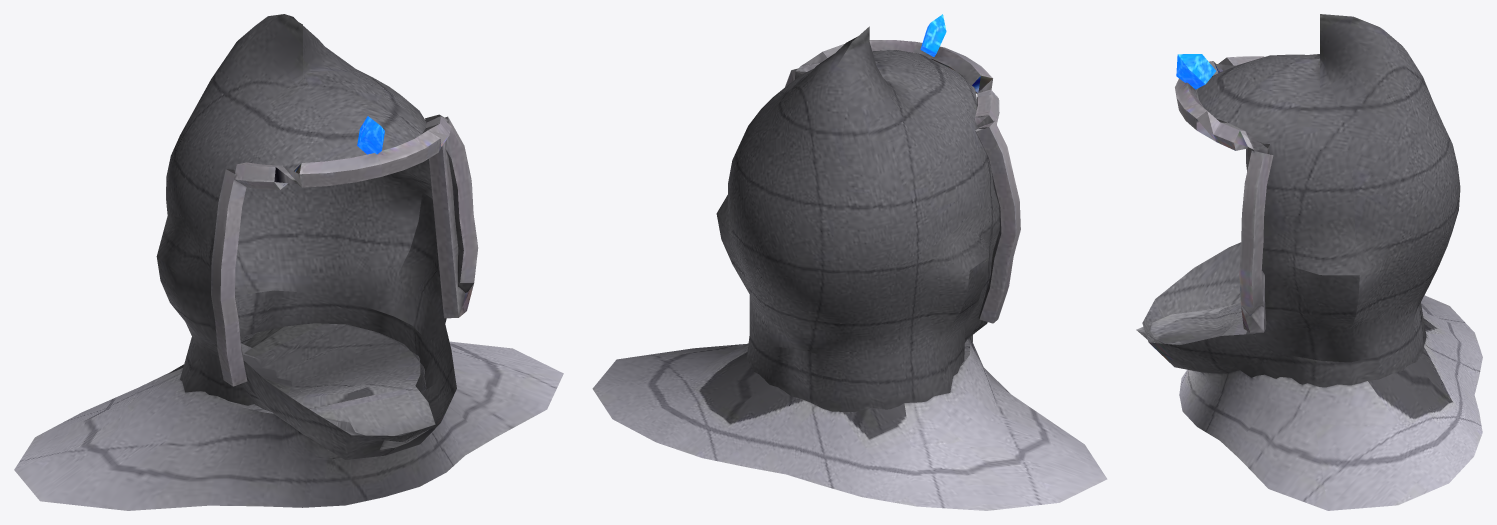
Rendered from Capuz_Arcano_nivel75.glb.
3 views of the same model, side by side, from view 1: azimuth 30°, elevation 25°; view 2: azimuth 150°, elevation 25°; view 3: azimuth 270°, elevation 25° (orthographic). The views are drawn at different scales.
Visible parts, largest first — view 1: capuz_arcano_nivel75; view 2: capuz_arcano_nivel75; view 3: capuz_arcano_nivel75.
Part boxes in pixels (x1,y1,x2,y2): capuz_arcano_nivel75: (14, 14, 563, 510); capuz_arcano_nivel75: (592, 14, 1107, 510); capuz_arcano_nivel75: (1136, 14, 1482, 510).
Bounding box in the file's own units: 0.4628 × 0.352 × 0.2919.
1 material, 1 textured.
